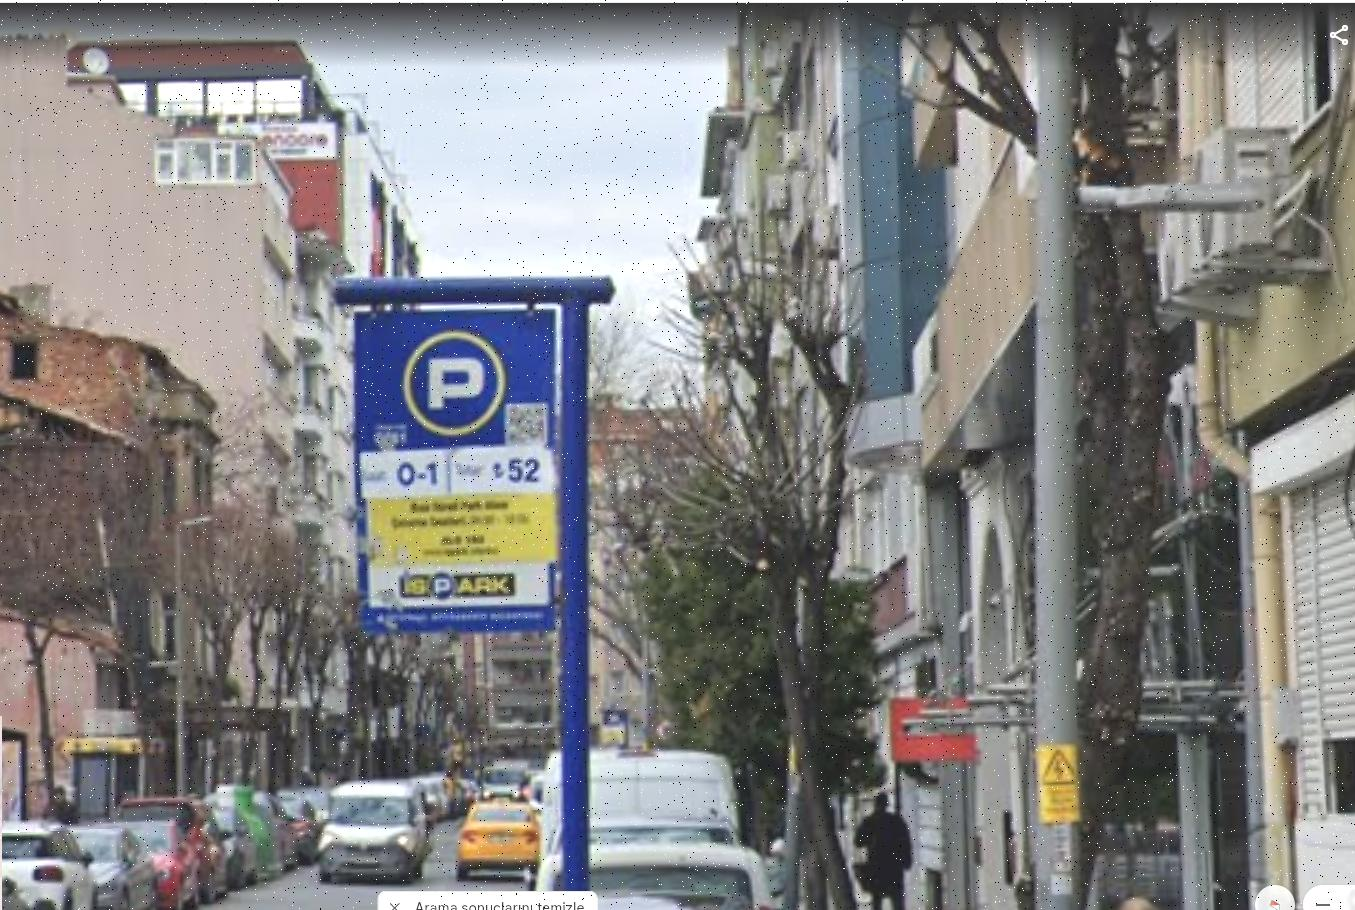park: (338, 292, 592, 446)
